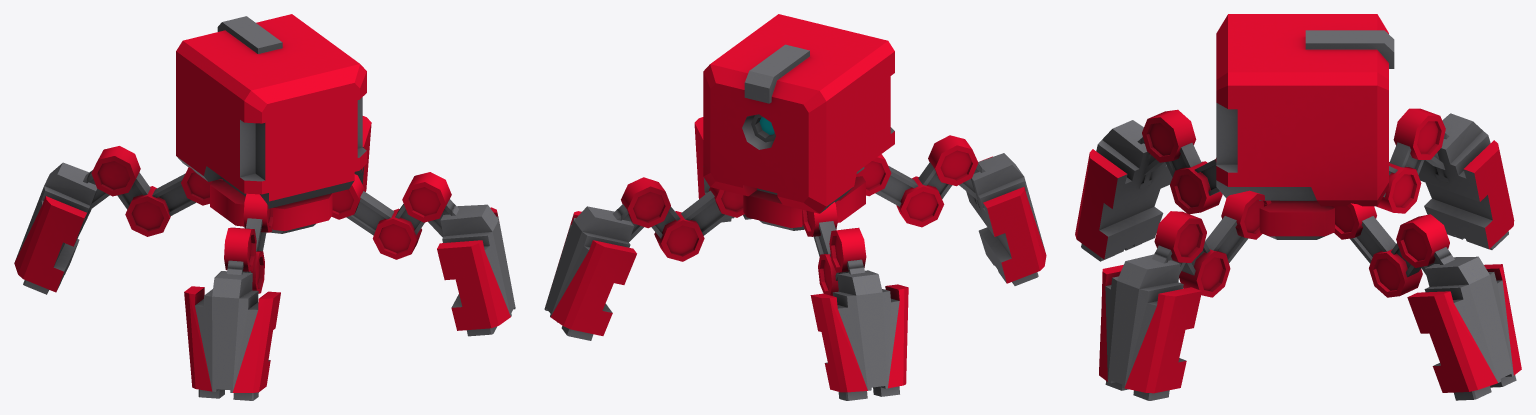
The model's file is Monster1_Attack21.obj.
3 views of the same model, side by side, from view 1: azimuth 30°, elevation 25°; view 2: azimuth 150°, elevation 25°; view 3: azimuth 270°, elevation 25° (orthographic). The views are drawn at different scales.
Visible parts, largest first — view 1: Box006, Object021, Object017, Object025, Object020, Object028, Object027, Object018, Object019, Object026, Object024, Object022 (+2 smaller); view 2: Box006, Object025, Object013, Object021, Object016, Object024, Object023, Object015, Object014, Object022, Object028, Object026 (+2 smaller); view 3: Box006, Object013, Object017, Object021, Object025, Object018, Object016, Object020, Object023, Object024, Object014, Object028 (+4 smaller).
Part boxes in pixels (x1,y1,x2,y2): Box006: (176, 14, 366, 233); Object021: (184, 271, 280, 400); Object017: (437, 204, 515, 336); Object025: (14, 162, 97, 294); Object020: (402, 172, 458, 237); Object028: (83, 146, 140, 210); Object027: (117, 172, 170, 236); Object018: (331, 174, 394, 235); Object019: (372, 204, 424, 259); Object026: (152, 167, 222, 216); Object024: (224, 227, 256, 274); Object022: (243, 193, 273, 251); Box006: (703, 14, 894, 230); Object025: (810, 270, 908, 400); Object013: (544, 206, 636, 340); Object021: (966, 153, 1046, 285); Object016: (613, 177, 670, 241); Object024: (928, 135, 985, 199); Object023: (896, 162, 952, 227); Object015: (651, 206, 704, 261); Object014: (681, 187, 744, 235); Object022: (856, 154, 918, 206); Object028: (829, 227, 866, 274); Object026: (802, 202, 837, 256); Box006: (1216, 14, 1394, 239); Object013: (1407, 256, 1521, 400); Object017: (1099, 254, 1201, 400); Object021: (1075, 120, 1172, 261); Object025: (1418, 113, 1514, 249); Object018: (1205, 190, 1271, 262); Object016: (1396, 214, 1454, 274); Object020: (1152, 211, 1206, 274); Object023: (1165, 143, 1222, 214); Object024: (1137, 109, 1196, 175); Object014: (1331, 203, 1395, 263); Object028: (1393, 108, 1449, 169).
Size of the model in its own units: 151 by 106 by 153.
